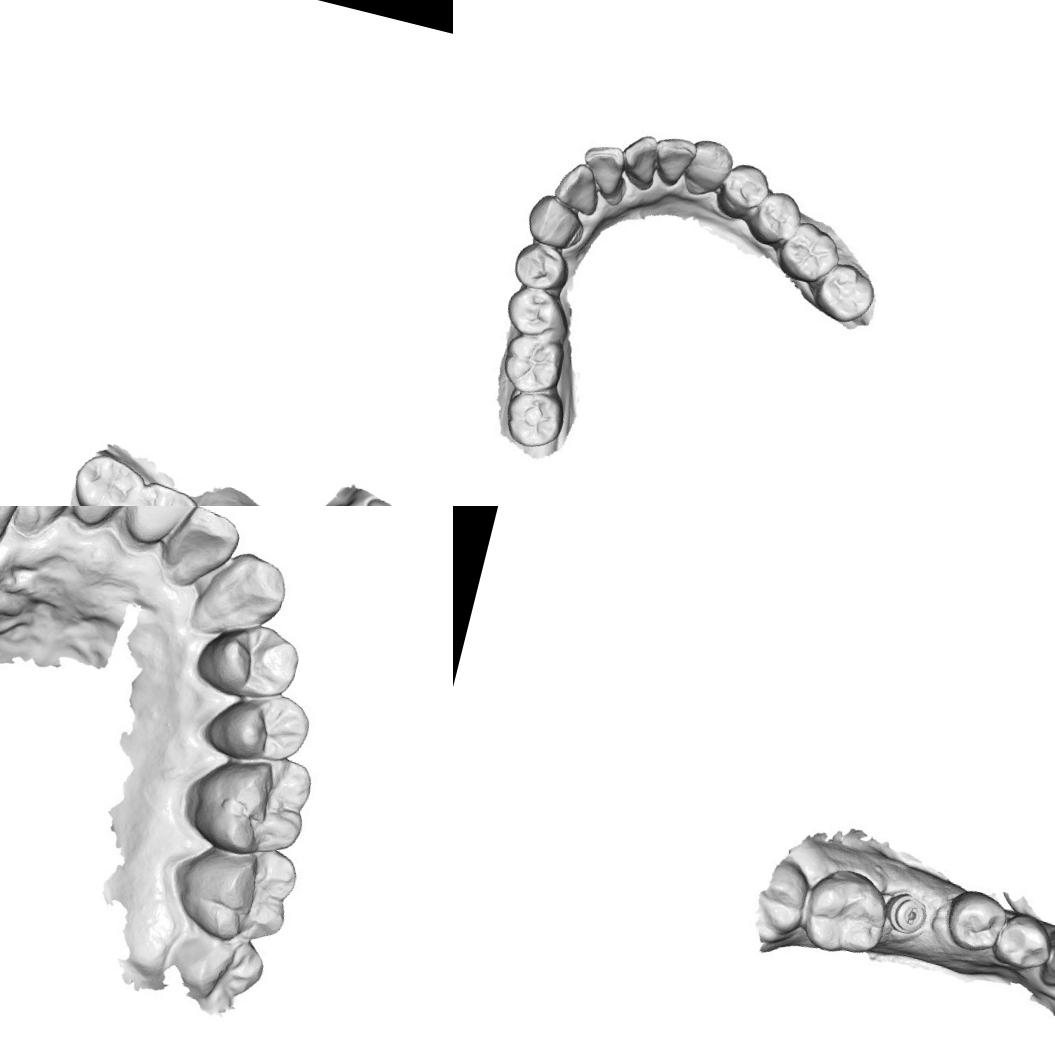canine: (193, 540, 295, 648), (520, 190, 586, 254), (681, 134, 738, 198), (1037, 931, 1055, 998)
implant_minus: (883, 890, 931, 938)
incisor: (158, 506, 242, 602), (123, 506, 217, 560), (574, 138, 632, 203), (3, 506, 97, 546), (550, 158, 607, 218), (614, 128, 666, 190), (648, 131, 698, 187), (63, 506, 155, 533), (357, 492, 418, 506)
molar: (166, 822, 303, 958), (184, 740, 319, 864), (792, 858, 898, 966), (774, 216, 848, 290), (497, 382, 570, 455), (497, 328, 571, 400), (811, 257, 882, 329), (67, 448, 148, 506), (127, 478, 205, 506)
premolar: (201, 676, 318, 779), (196, 613, 307, 714), (937, 884, 1009, 958), (987, 906, 1055, 977), (499, 280, 570, 344), (714, 156, 776, 219), (748, 185, 807, 247), (507, 238, 570, 296)
